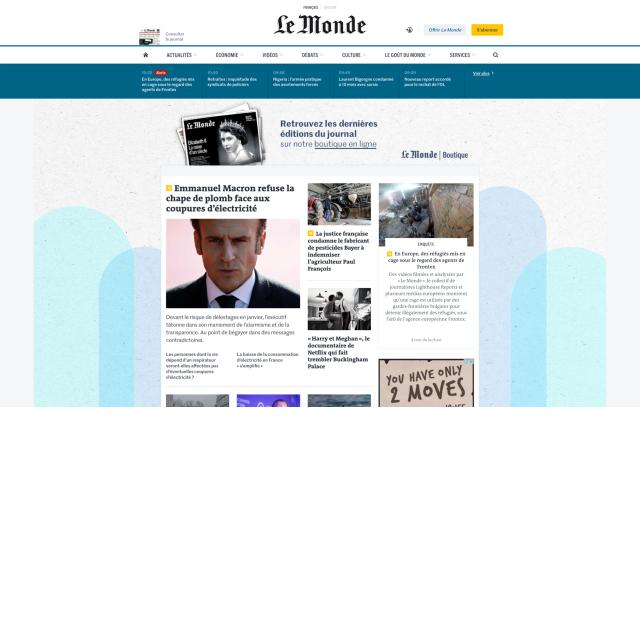CheckBox: (423, 24, 467, 36), (471, 23, 504, 36), (471, 68, 495, 78)
ImageView: (0, 99, 640, 164), (379, 359, 474, 407)
Input field: (383, 271, 470, 326), (164, 314, 297, 346)
RadioButton: (154, 69, 170, 76)
alert: (382, 50, 430, 60), (166, 50, 198, 59), (215, 50, 244, 59), (448, 50, 476, 59), (341, 50, 367, 59), (301, 50, 326, 59), (260, 50, 284, 59)
carousel: (403, 25, 414, 35), (141, 50, 150, 59), (492, 51, 501, 59)
copy: (166, 219, 301, 308), (379, 182, 474, 238), (307, 182, 371, 225), (308, 288, 371, 330)
date picker: (270, 12, 374, 40)
decoration: (137, 47, 505, 63)
image: (163, 183, 298, 215)
